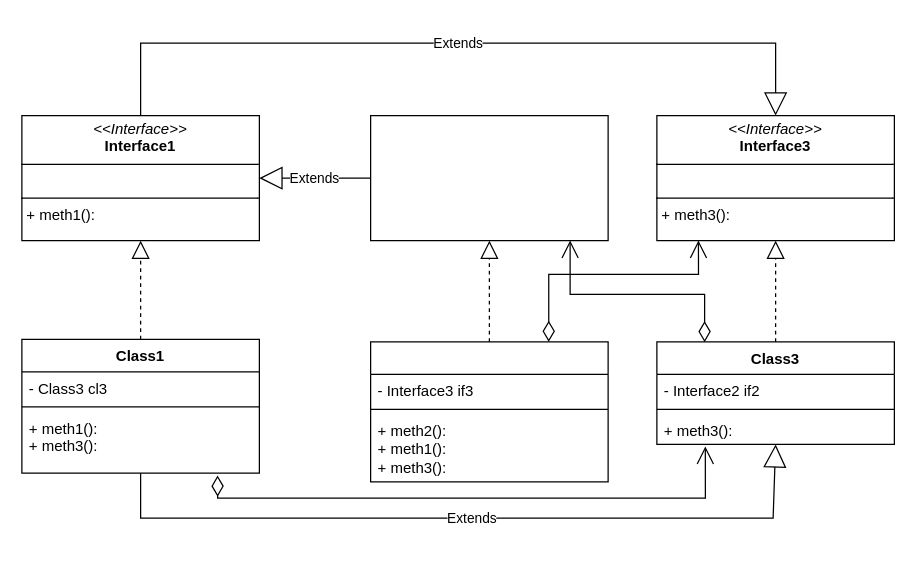
Some shapes in this 916 by 563 pixel diagram are drawn without their labels. Here are the shapes that lost their labels. From the top down, the box of each, then its label:
(369, 114, 608, 241): <<Interface>> Interface2 + meth2():
(369, 341, 608, 482): Class2
